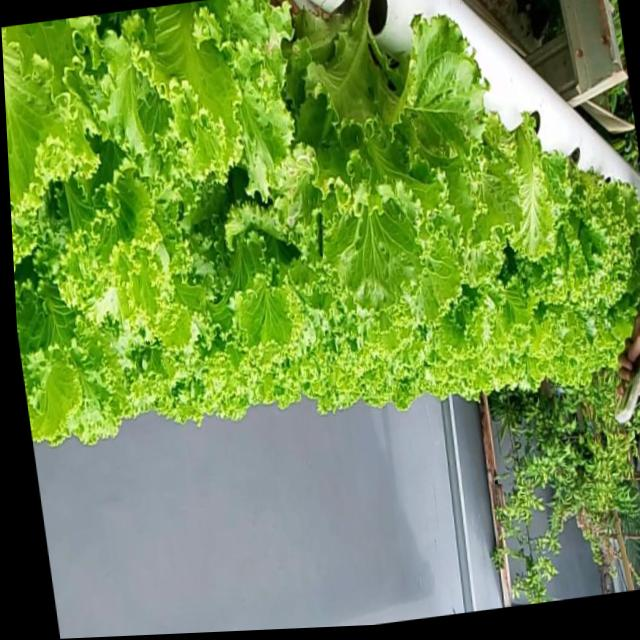Mature: (1, 0, 640, 447), (266, 1, 464, 298), (496, 132, 640, 341)
